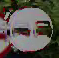No overtake: (6, 4, 54, 57)
